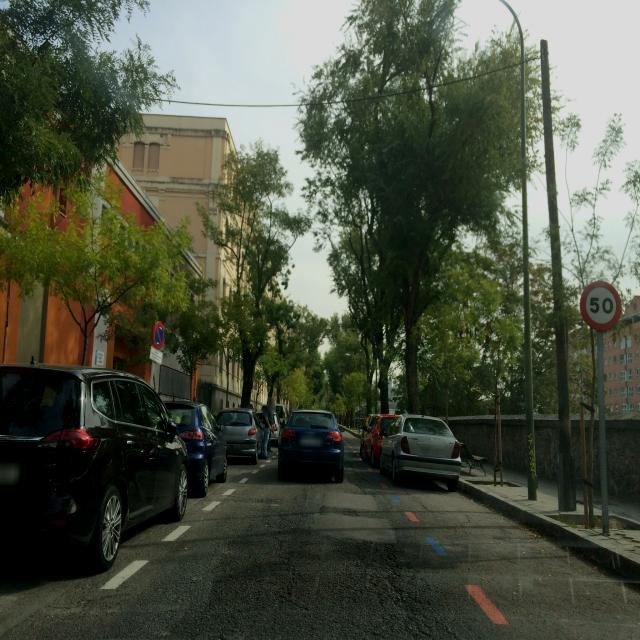car: (0, 362, 190, 573), (160, 397, 229, 496), (378, 414, 462, 489), (277, 408, 345, 482), (215, 408, 265, 464), (359, 413, 398, 467), (252, 411, 279, 451), (256, 411, 281, 446)
